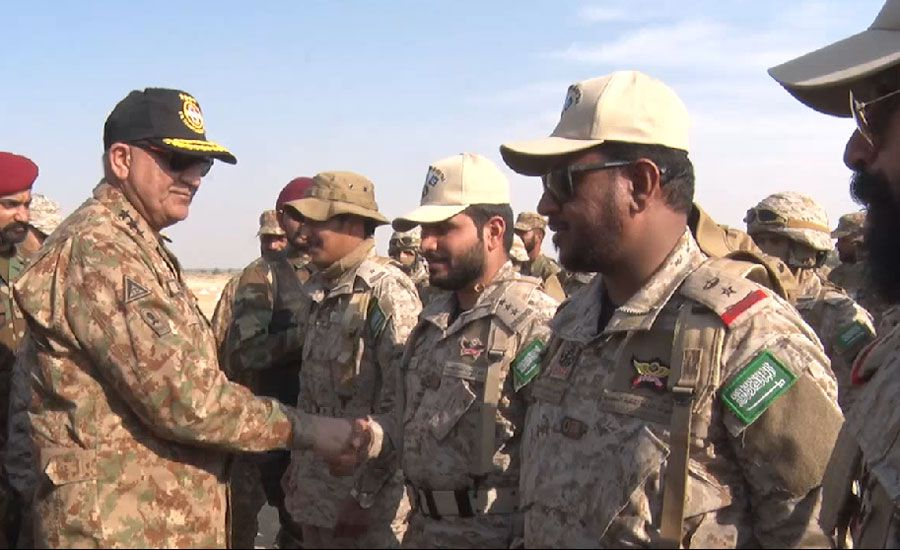uniform: (18, 166, 234, 536), (533, 252, 821, 529), (403, 221, 539, 523), (295, 198, 406, 518), (210, 232, 300, 403)
